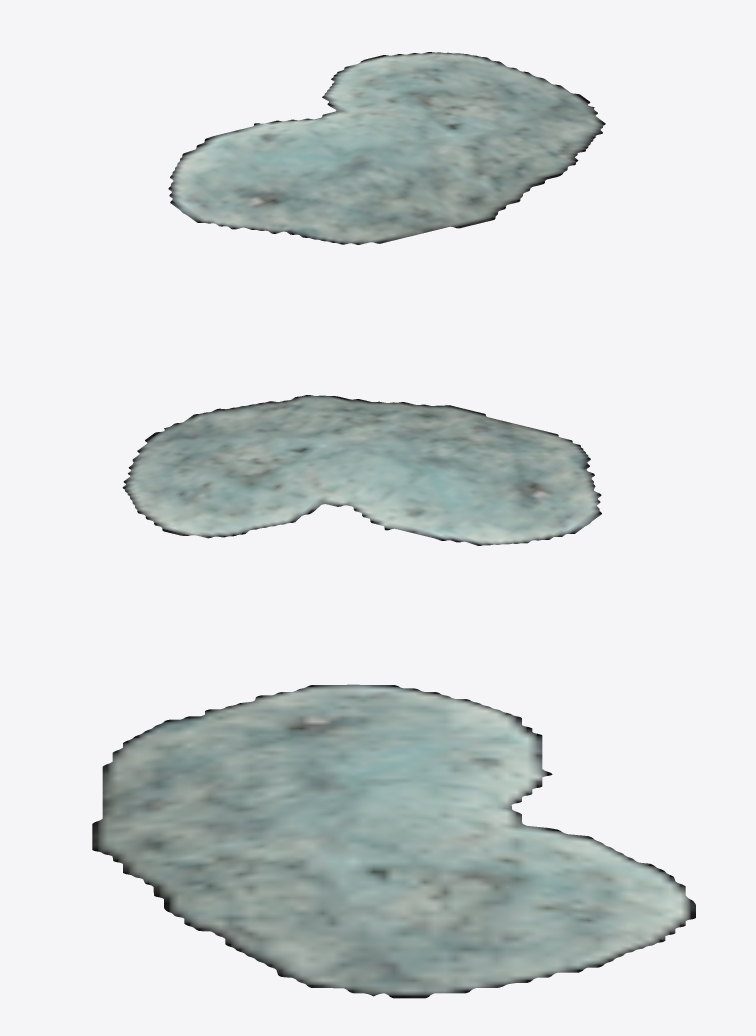
The model's file is Gum_2.FBX.
3 views of the same model, one above another, from view 1: azimuth 30°, elevation 25°; view 2: azimuth 150°, elevation 25°; view 3: azimuth 270°, elevation 25° (orthographic). The views are drawn at different scales.
Visible parts, largest first — view 1: Gum_1; view 2: Gum_1; view 3: Gum_1.
Part boxes in pixels (<box>): Gum_1: <box>168,52,605,244</box>; Gum_1: <box>122,395,601,545</box>; Gum_1: <box>92,684,695,998</box>.
Bounding box in the file's own units: 258 × 11.69 × 219.
1 material, 1 textured.
